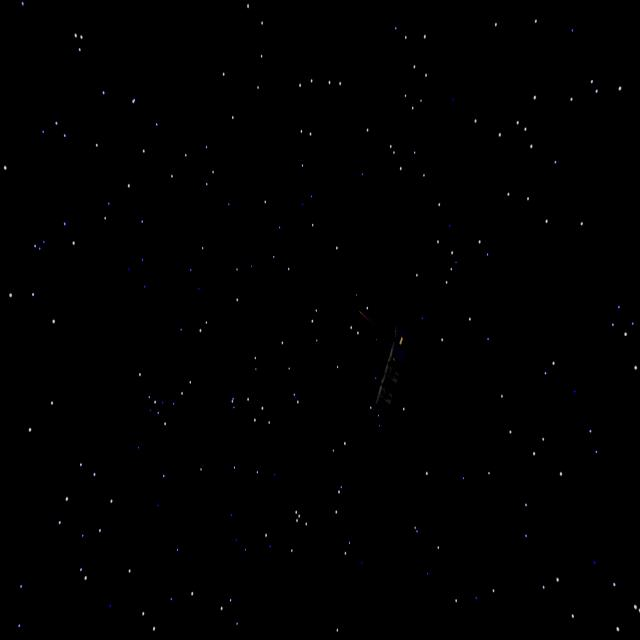satellite: (350, 300, 412, 425)
